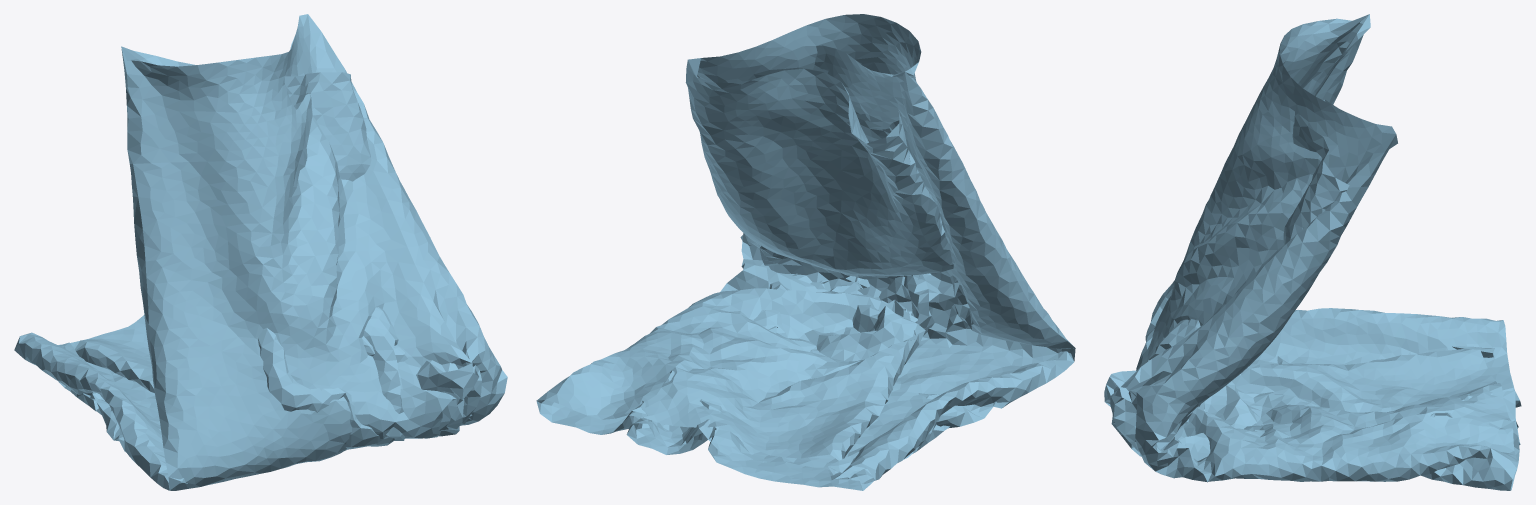
File: frame_15.glb
3 renders of one model, left to right at view 1: azimuth 30°, elevation 25°; view 2: azimuth 150°, elevation 25°; view 3: azimuth 270°, elevation 25°, orthographic. The views are drawn at different scales.
Parts seen in each view (by area): view 1: frame_15.obj; view 2: frame_15.obj; view 3: frame_15.obj.
Part boxes in pixels (bbox=[...]): frame_15.obj: bbox=[14, 14, 507, 490]; frame_15.obj: bbox=[536, 14, 1075, 490]; frame_15.obj: bbox=[1104, 14, 1521, 490].
Size of the model in its own units: 0.8926 by 0.8978 by 0.9546.
